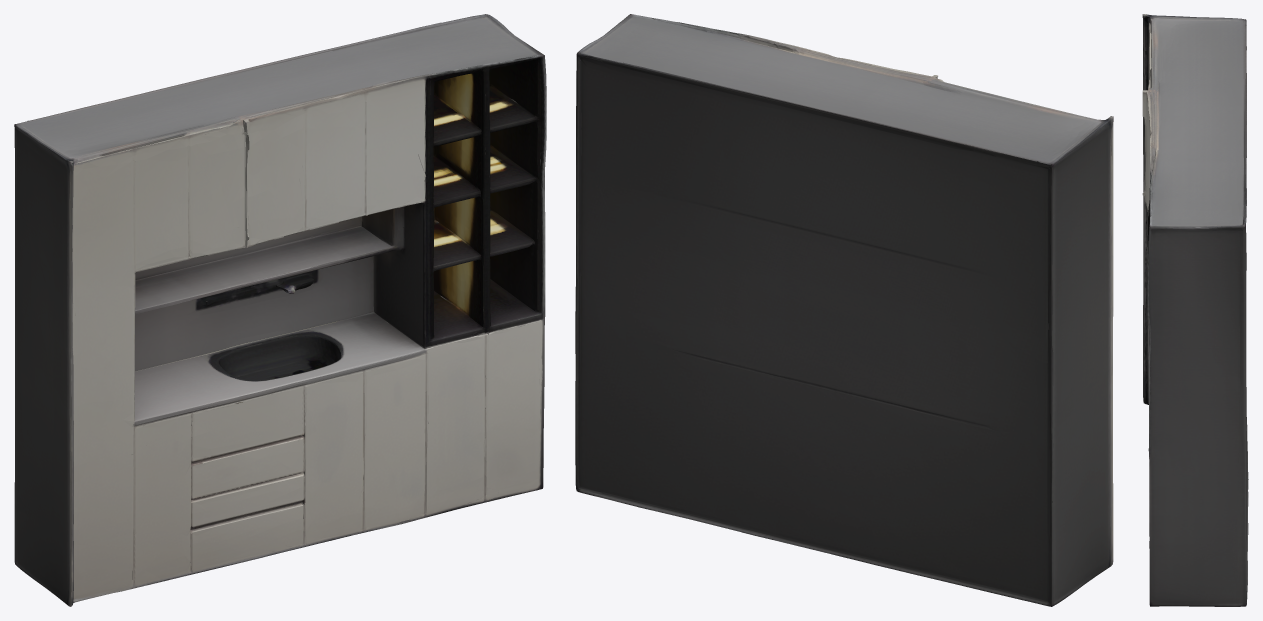
3 views of the same model, side by side, from view 1: azimuth 30°, elevation 25°; view 2: azimuth 150°, elevation 25°; view 3: azimuth 270°, elevation 25° (orthographic). The views are drawn at different scales.
Visible parts, largest first — view 1: world; view 2: world; view 3: world.
Boxes of the visible parts, bbox=[...] form: world: bbox=[14, 14, 546, 606]; world: bbox=[575, 14, 1113, 606]; world: bbox=[1142, 14, 1248, 606].
Size of the model in its own units: 0.9989 by 0.8883 by 0.2189.
Materials: 1 (1 with a texture image).
